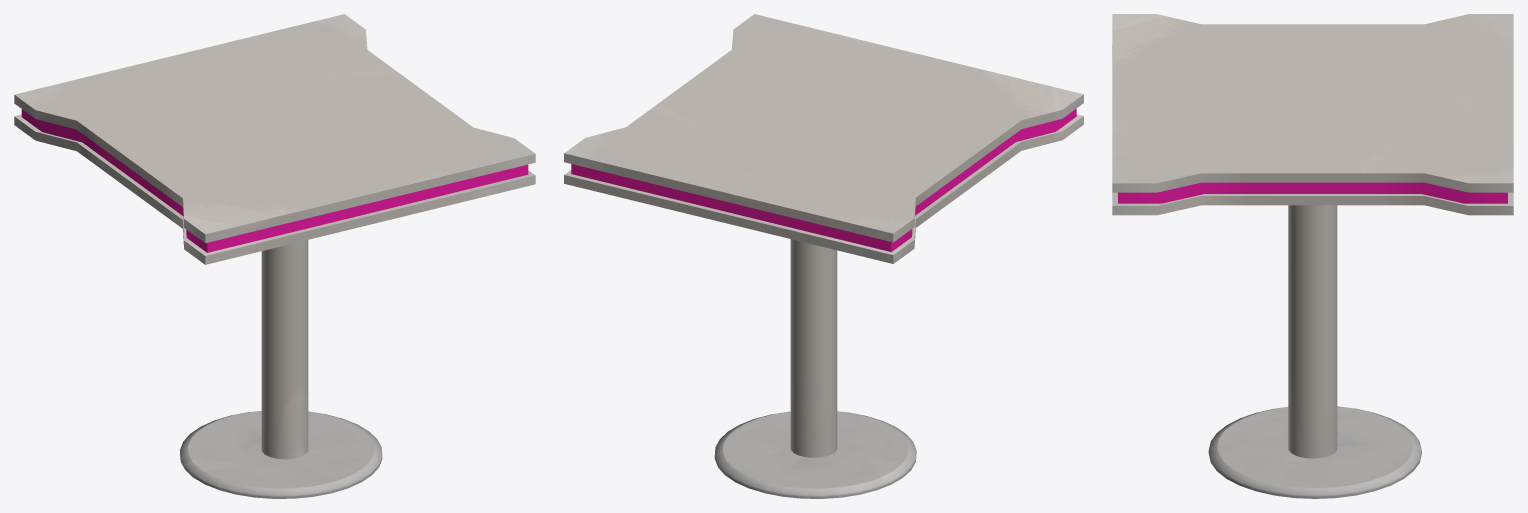
The model's file is Table_model.fbx.
3 renders of one model, left to right at view 1: azimuth 30°, elevation 25°; view 2: azimuth 150°, elevation 25°; view 3: azimuth 270°, elevation 25°, orthographic. The views are drawn at different scales.
Visible parts, largest first — view 1: TableTopTop, TableBase, TableSupport, TableTopBottom, TableTopMiddle; view 2: TableTopTop, TableBase, TableSupport, TableTopBottom, TableTopMiddle; view 3: TableTopTop, TableBase, TableSupport, TableTopBottom, TableTopMiddle.
Part boxes in pixels (x1,y1,x2,y2): TableTopTop: (14,14,535,243); TableBase: (180,411,382,498); TableSupport: (261,240,308,459); TableTopBottom: (14,114,535,264); TableTopMiddle: (21,109,528,252); TableTopTop: (564,14,1083,242); TableBase: (714,411,916,498); TableSupport: (790,239,837,457); TableTopBottom: (564,114,1083,263); TableTopMiddle: (571,108,1076,251); TableTopTop: (1112,14,1513,192); TableBase: (1208,406,1421,498); TableSupport: (1288,205,1337,458); TableTopBottom: (1112,192,1513,215); TableTopMiddle: (1118,182,1507,203).
Size of the model in its own units: 17.15 by 16.59 by 17.17.
Materials: 5 (5 with a texture image).
